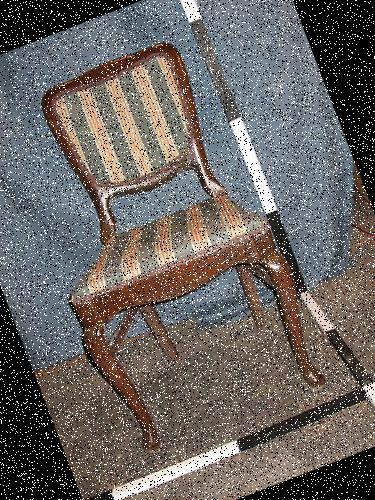Silla: (5, 31, 331, 449)
